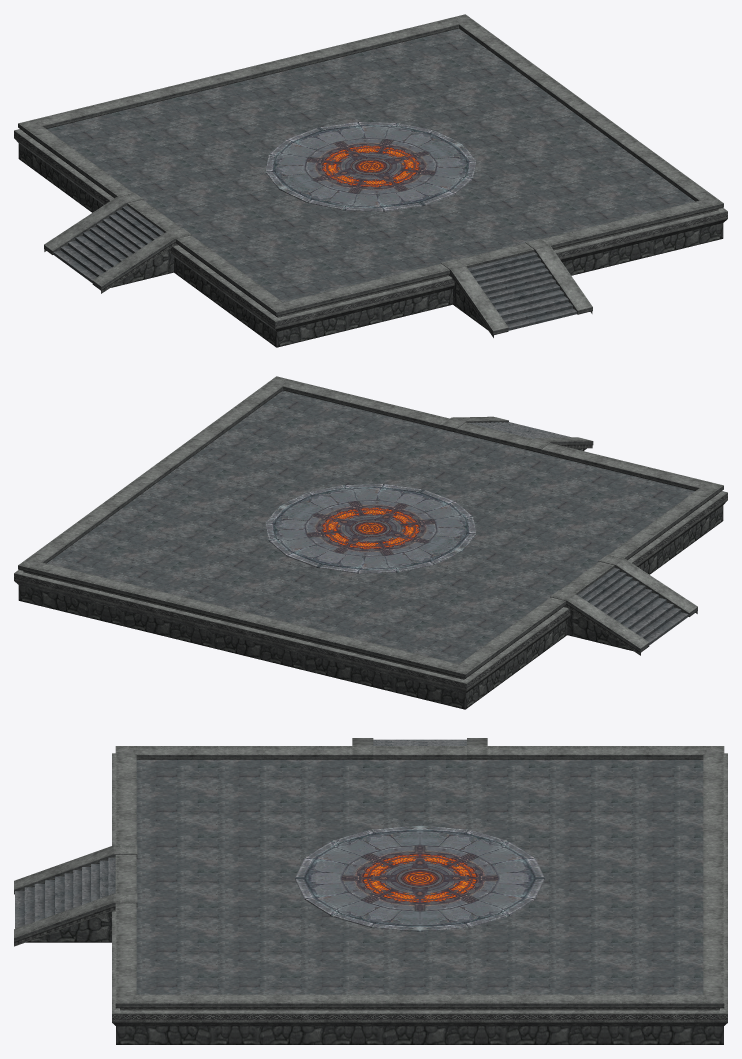
The model's file is gxy_diji.FBX.
3 views of the same model, one above another, from view 1: azimuth 30°, elevation 25°; view 2: azimuth 150°, elevation 25°; view 3: azimuth 270°, elevation 25° (orthographic). The views are drawn at different scales.
Visible parts, largest first — view 1: gxy_diji01, gxy_diji02; view 2: gxy_diji01, gxy_diji02; view 3: gxy_diji01, gxy_diji02.
Part boxes in pixels (x1,y1,x2,y2): gxy_diji01: (14,14,727,347); gxy_diji02: (266,122,475,211); gxy_diji01: (14,376,727,709); gxy_diji02: (266,484,475,573); gxy_diji01: (14,738,727,1044); gxy_diji02: (295,825,544,931).
Bounding box in the file's own units: 4579 × 314 × 4579.
